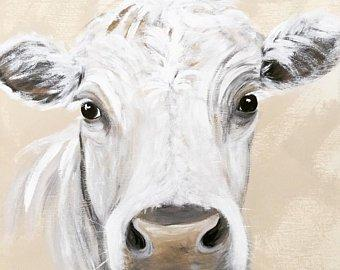muzzles: (102, 199, 249, 270)
